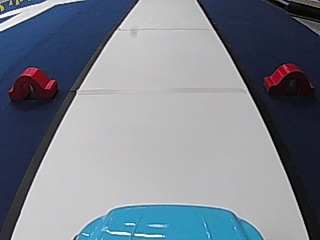bridge: (7, 63, 58, 103), (260, 60, 313, 96)
